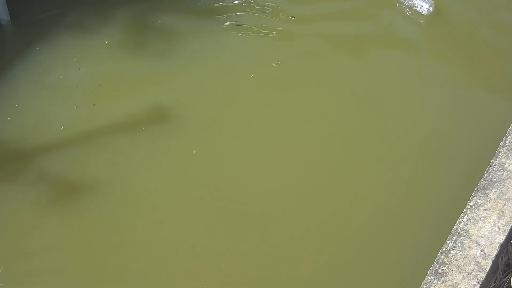plastic: (393, 0, 443, 26)
